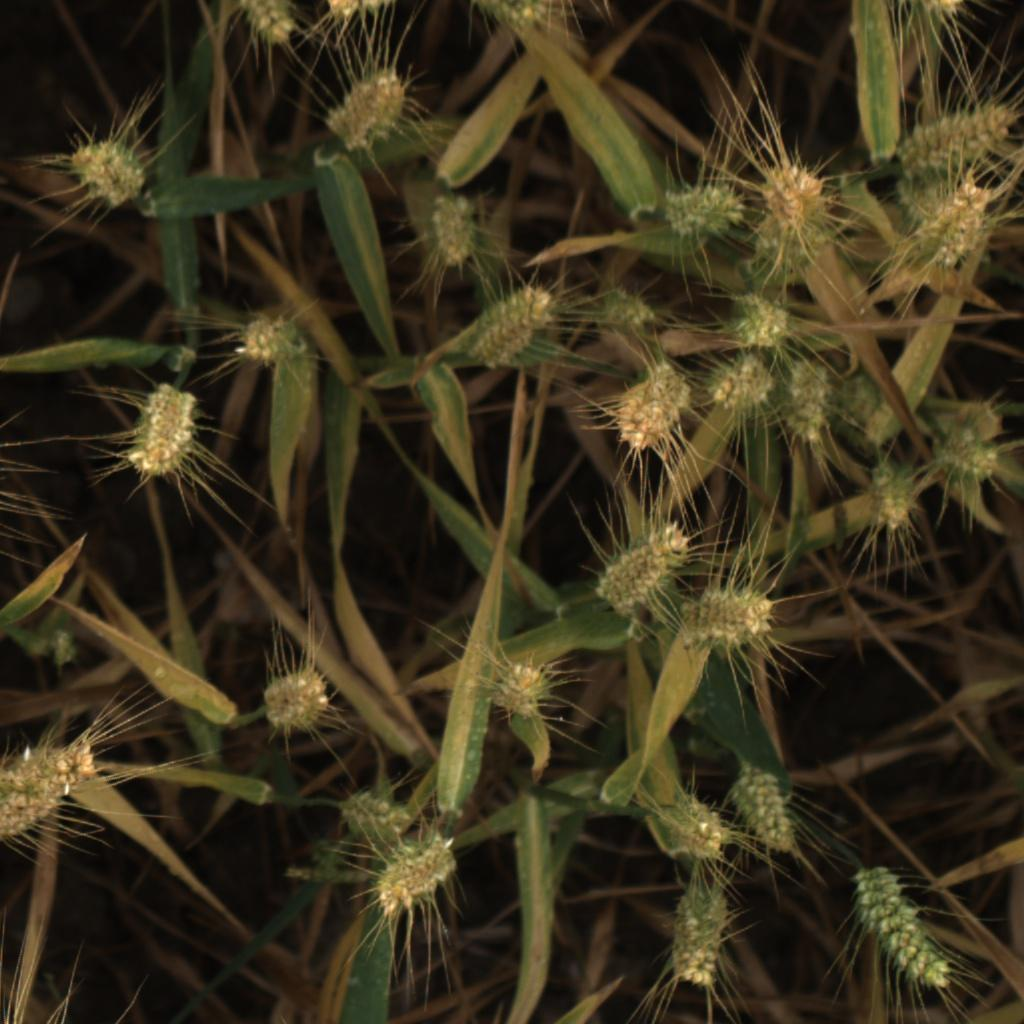0-0: (847, 860, 960, 991), (887, 97, 1020, 181), (0, 734, 98, 846), (596, 519, 698, 619), (912, 165, 1001, 273), (370, 824, 465, 924), (459, 283, 557, 373), (118, 383, 203, 483), (607, 363, 693, 454), (732, 763, 808, 862), (748, 207, 839, 289), (324, 65, 408, 153), (665, 885, 729, 992), (677, 587, 780, 653), (66, 132, 152, 211), (659, 177, 748, 240), (660, 793, 734, 868), (230, 304, 310, 372), (764, 158, 836, 230), (261, 668, 333, 737), (334, 787, 419, 845), (931, 414, 1000, 484), (856, 460, 923, 531), (782, 358, 836, 446), (486, 657, 555, 725), (422, 191, 480, 271), (722, 292, 796, 354), (709, 352, 776, 419), (592, 284, 661, 340), (467, 0, 560, 38), (237, 0, 302, 52), (836, 372, 886, 432), (323, 0, 403, 27), (50, 626, 80, 669), (922, 0, 972, 16)
